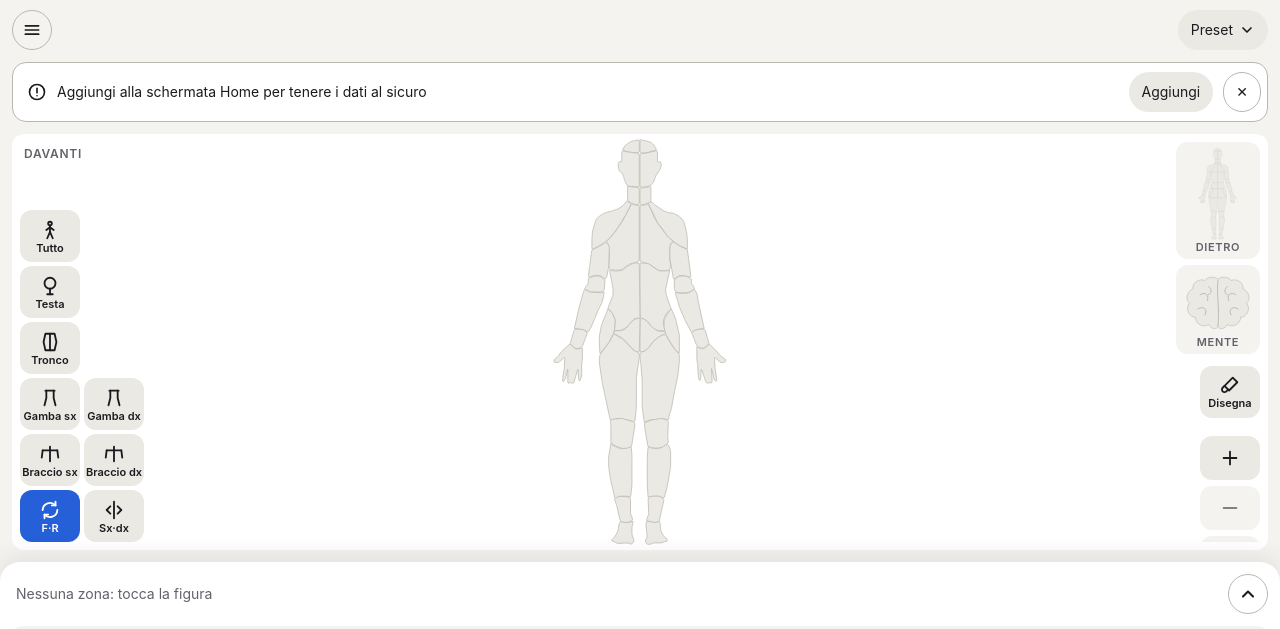
Trends summary › the report button sits under the ranges, before the figures (#114)
Click the button named "Menu" at (32, 30), box [12,10,52,50]
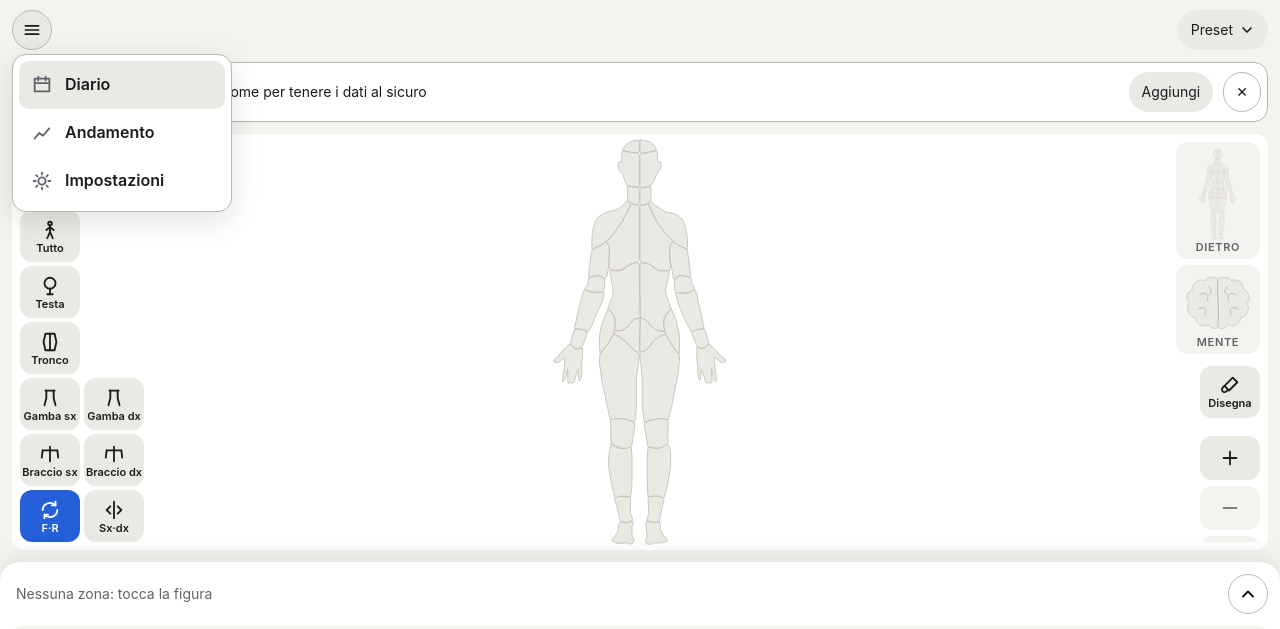
Click the menu item "Andamento" at (122, 133), box [19,109,225,157]
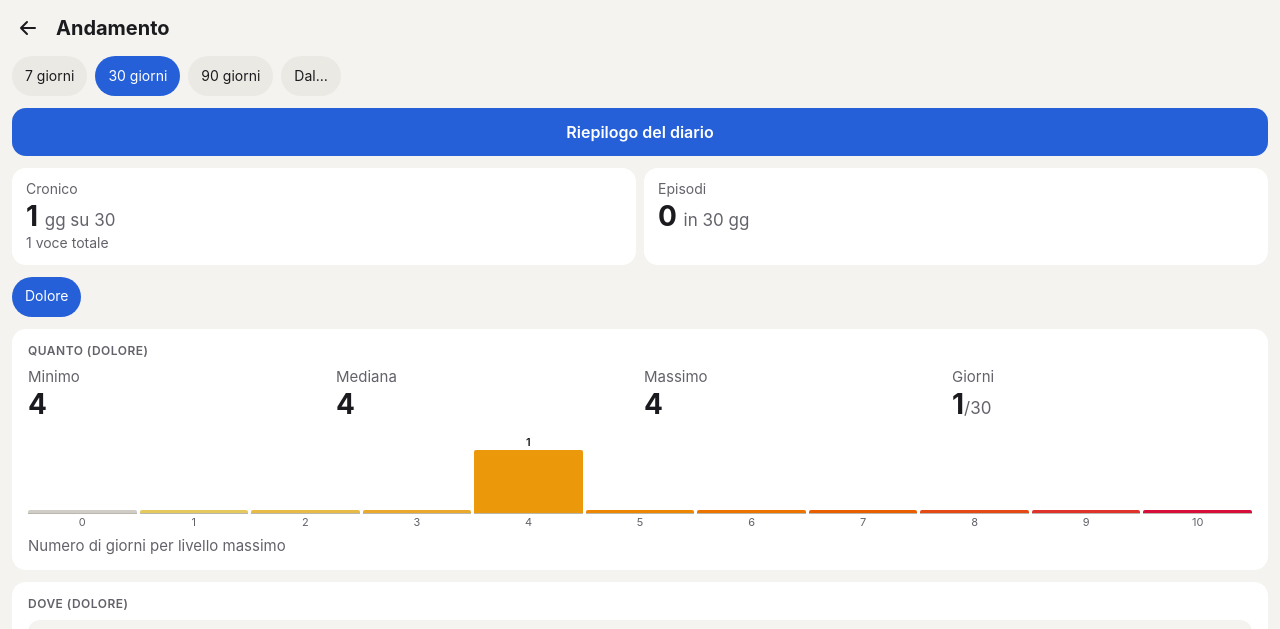
Now the element showing "Cronico 1 gg su 30 1 voce totale" is shown, box [12,168,636,265]
